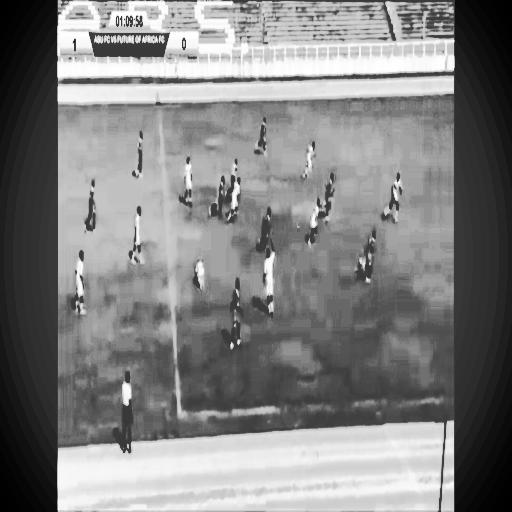ball: (358, 252, 364, 273)
referee: (122, 353, 135, 458)
team1: (387, 155, 405, 229), (72, 233, 86, 326), (132, 198, 147, 267), (305, 195, 321, 253), (180, 149, 194, 208), (264, 246, 275, 320), (304, 134, 318, 182), (194, 256, 206, 292)
team2: (224, 278, 243, 356), (320, 166, 336, 230), (86, 169, 100, 236), (255, 205, 274, 253), (364, 224, 378, 288), (208, 168, 226, 215), (133, 121, 146, 181), (255, 105, 268, 154)
